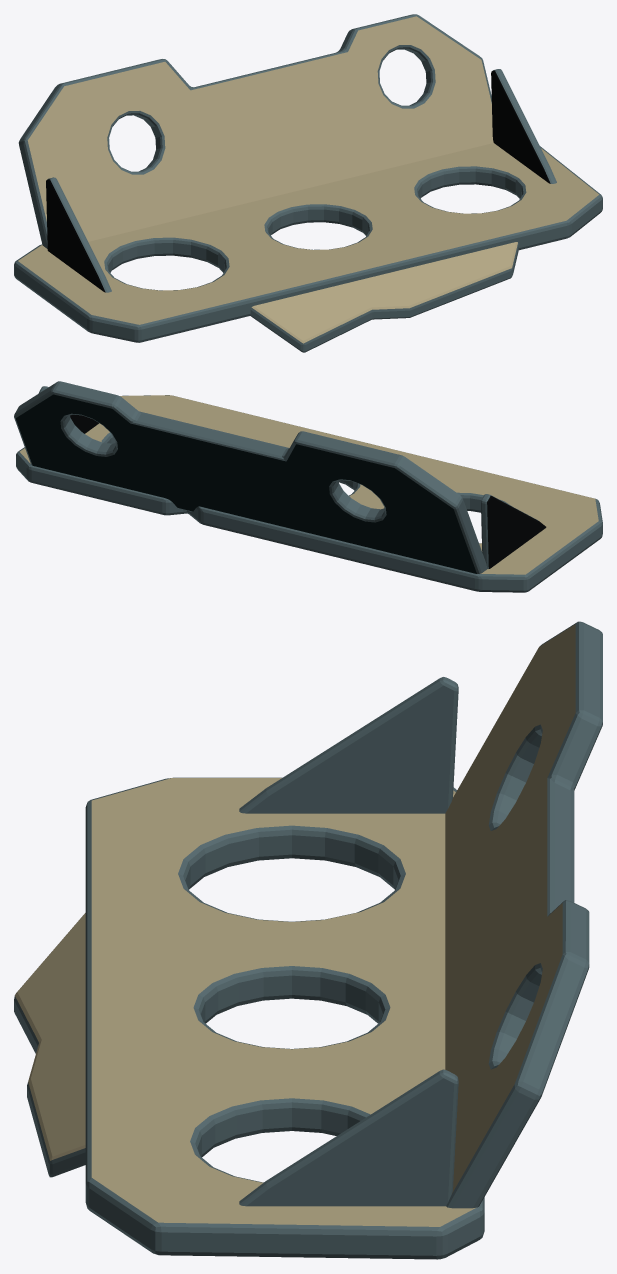
File: SM_HopperMk2Wreck_AngleBracket.fbx
The picture shows the model from 3 angles, top to bottom: view 1: azimuth 30°, elevation 25°; view 2: azimuth 150°, elevation 25°; view 3: azimuth 270°, elevation 25°; orthographic projection. The views are drawn at different scales.
Parts seen in each view (by area): view 1: SM_HopperMk2Wreck_AngleBracket; view 2: SM_HopperMk2Wreck_AngleBracket; view 3: SM_HopperMk2Wreck_AngleBracket.
Part boxes in pixels (left/top/right/bottom): SM_HopperMk2Wreck_AngleBracket: left=14, top=14, right=602, bottom=352; SM_HopperMk2Wreck_AngleBracket: left=14, top=381, right=602, bottom=592; SM_HopperMk2Wreck_AngleBracket: left=14, top=621, right=602, bottom=1259.
Bounding box in the file's own units: 31.29 × 17.12 × 10.17.
